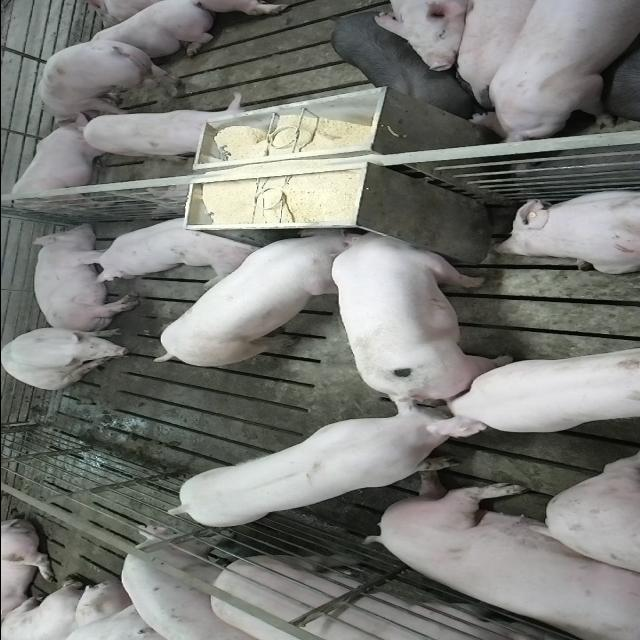Feeding: (329, 221, 512, 396), (144, 229, 360, 372)
Lateral_lying: (364, 471, 640, 636), (28, 224, 140, 333)
Sitting: (0, 124, 117, 217), (2, 326, 136, 390)
Standing: (155, 394, 485, 526), (203, 551, 617, 640), (476, 2, 640, 142), (448, 344, 640, 434), (328, 9, 478, 119), (112, 527, 256, 640), (32, 33, 178, 121), (71, 98, 252, 158), (450, 0, 546, 106)
Sternal_lying: (491, 186, 640, 274), (79, 211, 258, 279), (74, 1, 214, 65)
